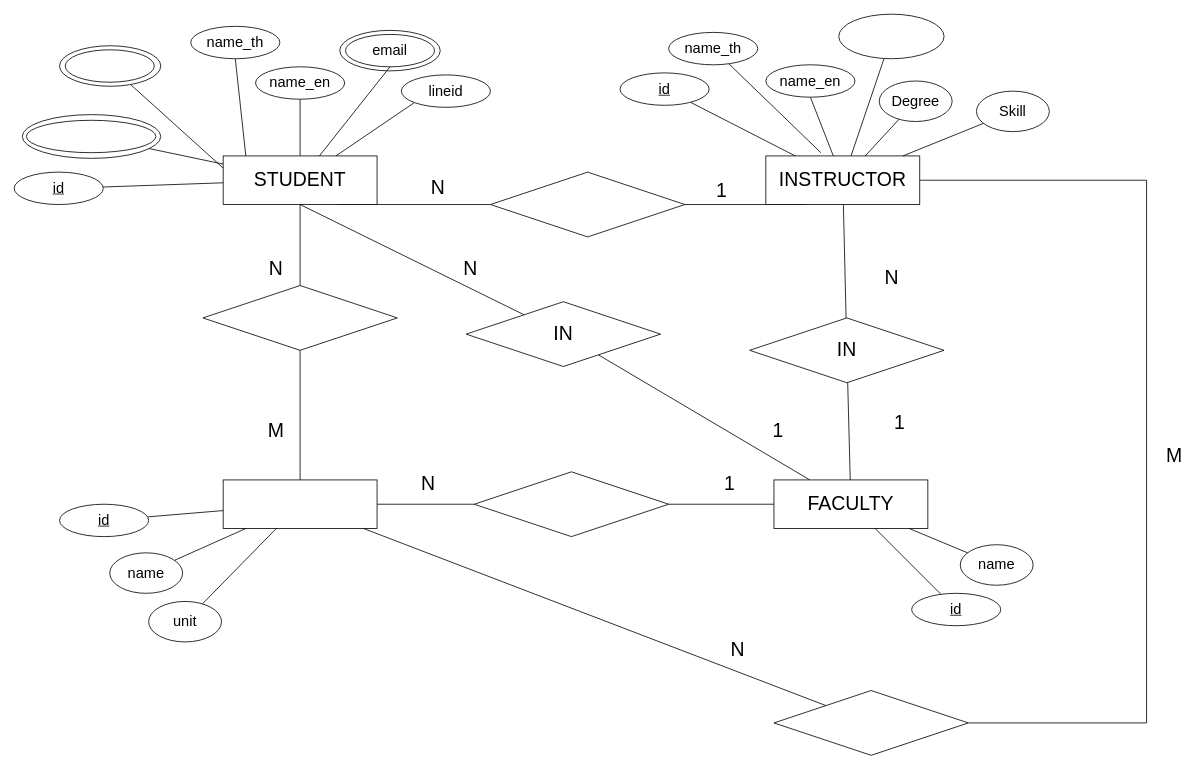
Some shapes in this 1204 by 770 pixel diagram are drawn without their labels. Here are the shapes that lost their labels. From the top down, the box of each, then its label:
(838, 13, 944, 59): Academic Vichakarn
(64, 49, 154, 82): address
(26, 119, 156, 153): phone_number
(490, 171, 685, 237): CONSULT
(202, 285, 397, 350): REGISTER
(222, 479, 377, 529): SUBJECT
(473, 471, 669, 537): OF
(773, 690, 968, 755): TEACH
